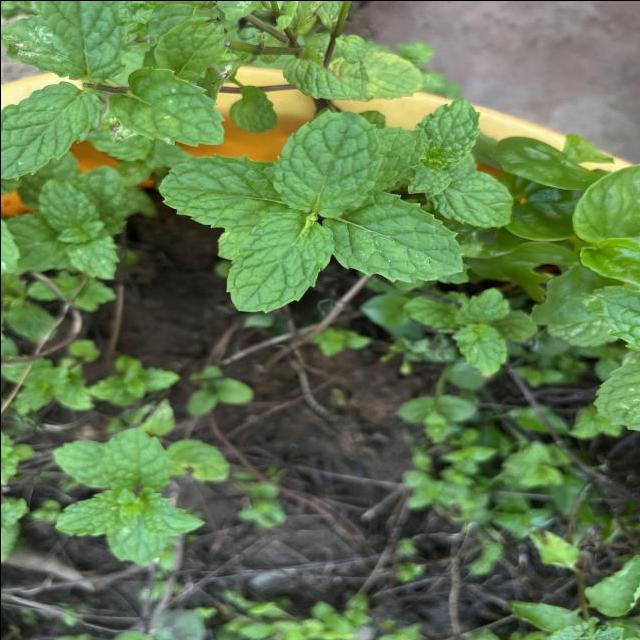Mentha spicata: (332, 189, 466, 284), (272, 107, 384, 218), (223, 210, 334, 314), (0, 78, 104, 182), (156, 151, 284, 230), (106, 65, 225, 146)
